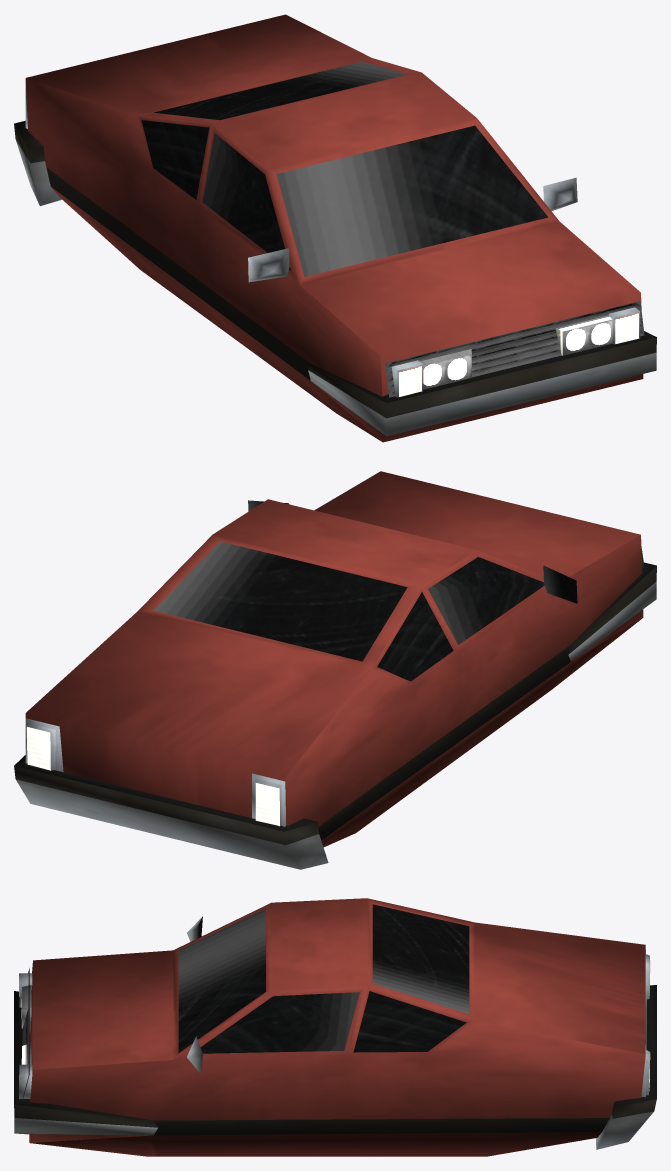
File: EnemyCar_3_v2.fbx
The picture shows the model from 3 angles, top to bottom: view 1: azimuth 30°, elevation 25°; view 2: azimuth 150°, elevation 25°; view 3: azimuth 270°, elevation 25°; orthographic projection. The views are drawn at different scales.
Parts seen in each view (by area): view 1: Sports.001; view 2: Sports.001; view 3: Sports.001.
Boxes of the visible parts, x1=… form: Sports.001: x1=14, y1=14, x2=656, y2=442; Sports.001: x1=14, y1=471, x2=656, y2=869; Sports.001: x1=14, y1=898, x2=656, y2=1156.
Size of the model in its own units: 75.86 by 43.24 by 149.
